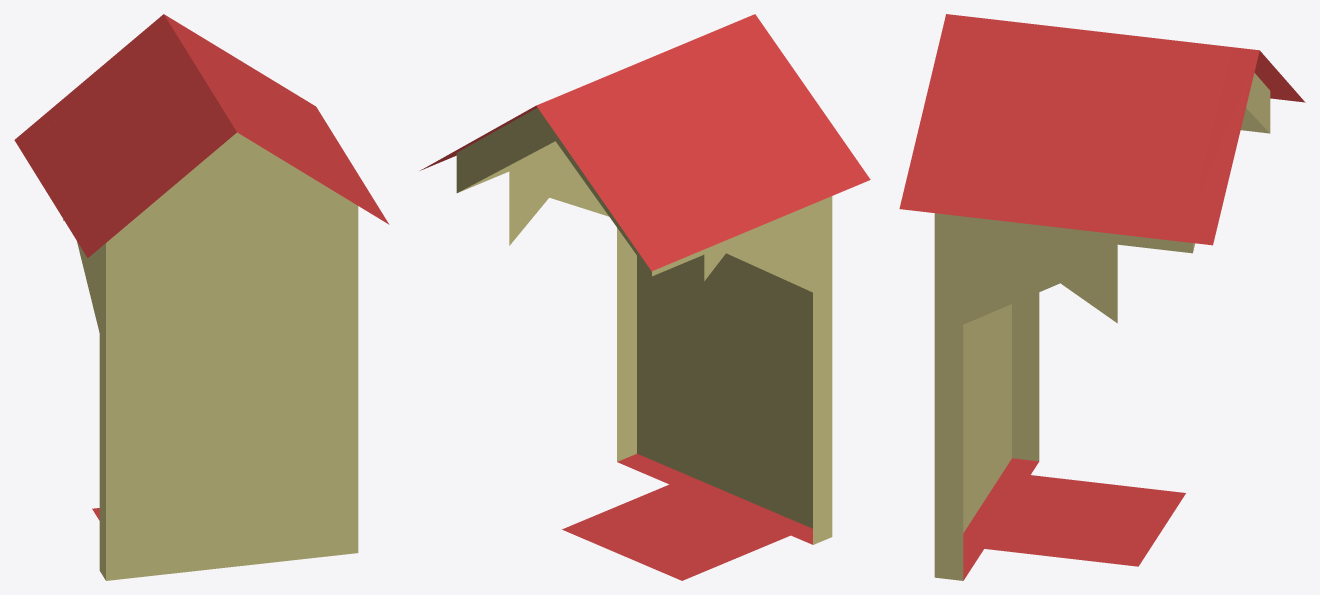
3 views of the same model, side by side, from view 1: azimuth 30°, elevation 25°; view 2: azimuth 150°, elevation 25°; view 3: azimuth 270°, elevation 25° (orthographic). The views are drawn at different scales.
Size of the model in its own units: 11.06 by 10.6 by 14.4.
